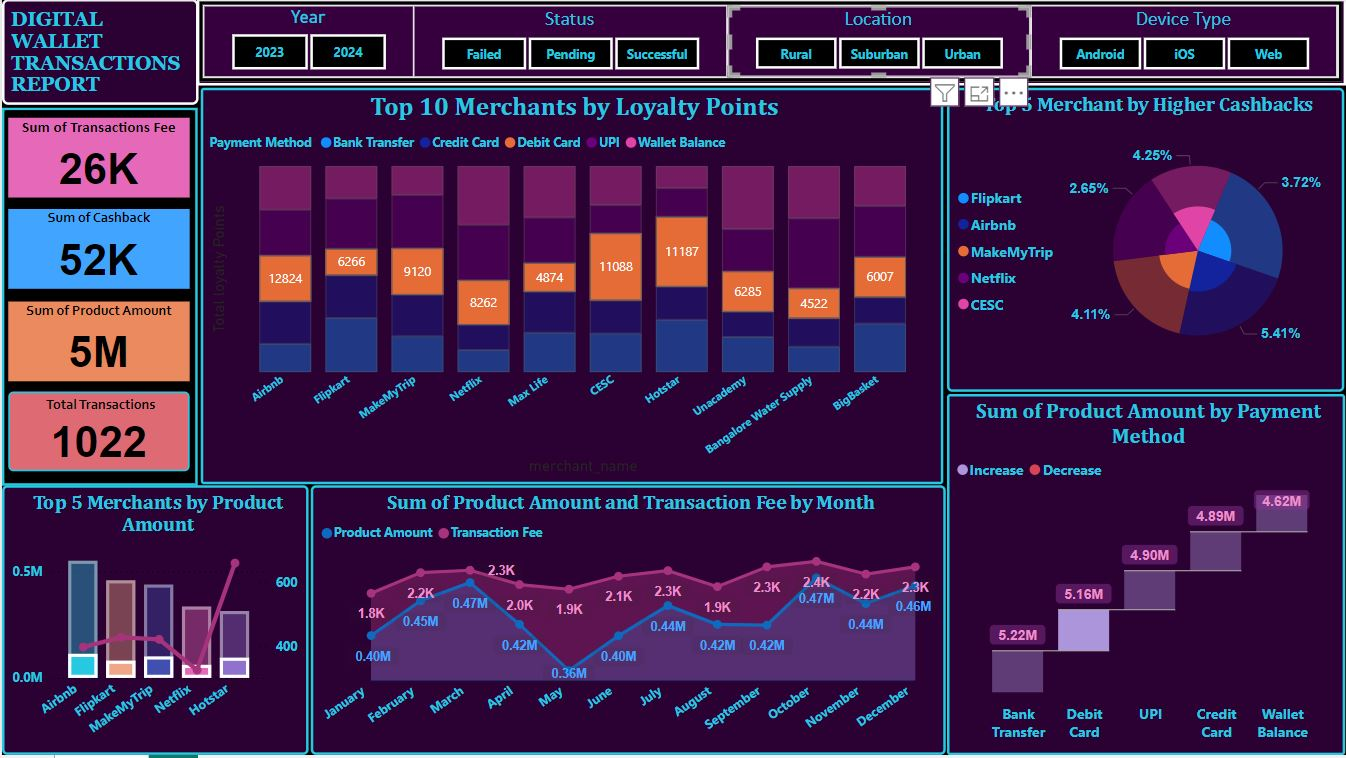

The page's visual inventory and layout, read from the dashboard file:
{"tool":"powerbi","page":{"name":"Page 1","canvas":[1280,720],"ordinal":0},"visuals":[{"type":"shape","box":[0,103.3,186.2,360.2],"z":0},{"type":"shape","box":[185.8,0,1094.2,82],"z":1000},{"type":"slicer","title":"Year","fields":{"Values":["digital_wallet_transactions.transaction_date.Variation.Date Hierarchy.Year"]},"box":[192.9,7.1,198,66.7],"z":2000},{"type":"card","title":"Sum of Transactions Fee","fields":{"Values":["Sum(digital_wallet_transactions.transaction_fee)"]},"box":[6,113.1,172.6,76.2],"z":3000},{"type":"textbox","box":[0,0,187,101],"z":4000},{"type":"card","title":"Sum of Cashback","fields":{"Values":["Sum(digital_wallet_transactions.cashback)"]},"box":[5.4,199.8,172.6,76.1],"z":5000},{"type":"card","title":"Sum of Product Amount","fields":{"Values":["Sum(digital_wallet_transactions.product_amount)"]},"box":[5.4,288.1,172.6,76.1],"z":6000},{"type":"slicer","title":"Device Type","fields":{"Values":["digital_wallet_transactions.device_type"]},"box":[981,7.1,289.3,66.7],"z":7000},{"type":"slicer","title":"Location","fields":{"Values":["digital_wallet_transactions.location"]},"box":[691.8,6.8,286.8,66.6],"z":8000},{"type":"slicer","title":"Status","fields":{"Values":["digital_wallet_transactions.transaction_status"]},"box":[392.9,7.1,296.4,66.7],"z":9000},{"type":"lineStackedColumnComboChart","title":"Top 5 Merchants by Product Amount","fields":{"Category":["digital_wallet_transactions.merchant_name"],"Y":["Sum(digital_wallet_transactions.product_amount)"],"Y2":["Sum(digital_wallet_transactions.transaction_fee)"]},"box":[0,463.5,292.2,256.9],"z":10000},{"type":"lineChart","title":"Sum of Product Amount and Transaction Fee by Month","fields":{"Category":["digital_wallet_transactions.transaction_date.Variation.Date Hierarchy.Month"],"Y":["Sum(digital_wallet_transactions.product_amount)"],"Y2":["Sum(digital_wallet_transactions.transaction_fee)"]},"box":[293.6,463.1,605,256.9],"z":11000},{"type":"card","title":"Total Transactions","fields":{"Values":["Count(digital_wallet_transactions.transaction_id)"]},"box":[5.4,373.8,172.6,76.1],"z":12000},{"type":"pieChart","title":"Top 5 Merchant by Higher Cashbacks","fields":{"Category":["digital_wallet_transactions.merchant_name"],"Y":["Sum(digital_wallet_transactions.cashback)"]},"box":[899.7,84.3,378,289.5],"z":13000},{"type":"hundredPercentStackedColumnChart","title":"Top 10 Merchants by Loyalty Points","fields":{"Category":["digital_wallet_transactions.merchant_name"],"Y":["Sum(digital_wallet_transactions.loyalty_points)"],"Series":["digital_wallet_transactions.payment_method"]},"box":[188.9,84.3,707,377.8],"z":14000},{"type":"waterfallChart","title":"Sum of Product Amount by Payment Method","fields":{"Category":["digital_wallet_transactions.payment_method"],"Y":["Sum(digital_wallet_transactions.product_amount)"]},"box":[899.7,376.1,379.2,343.9],"z":15000}]}

Visuals, with their boxes in screenshot pixels (x1, y1, x2, y2), scaled from the page's 1280x720 canvas onto the 1346x758 screenshot:
shape: l=0, t=109, r=196, b=488
shape: l=195, t=0, r=1345, b=86
"Year" slicer: l=203, t=7, r=411, b=78
"Sum of Transactions Fee" card: l=6, t=119, r=188, b=199
textbox: l=0, t=0, r=197, b=106
"Sum of Cashback" card: l=6, t=210, r=187, b=290
"Sum of Product Amount" card: l=6, t=303, r=187, b=383
"Device Type" slicer: l=1032, t=7, r=1336, b=78
"Location" slicer: l=727, t=7, r=1029, b=77
"Status" slicer: l=413, t=7, r=725, b=78
"Top 5 Merchants by Product Amount" lineStackedColumnComboChart: l=0, t=488, r=307, b=757
"Sum of Product Amount and Transaction Fee by Month" lineChart: l=309, t=488, r=945, b=757
"Total Transactions" card: l=6, t=394, r=187, b=474
"Top 5 Merchant by Higher Cashbacks" pieChart: l=946, t=89, r=1344, b=394
"Top 10 Merchants by Loyalty Points" hundredPercentStackedColumnChart: l=199, t=89, r=942, b=486
"Sum of Product Amount by Payment Method" waterfallChart: l=946, t=396, r=1345, b=757
